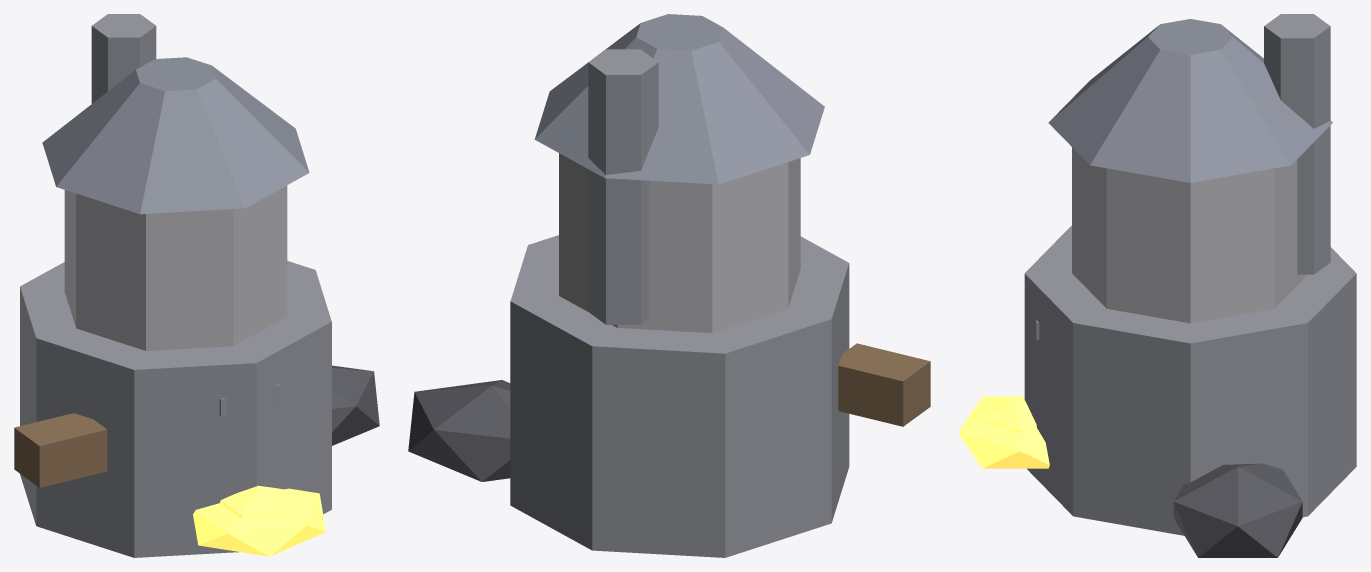
File: smelter.glb
The picture shows the model from 3 angles, left to right: view 1: azimuth 30°, elevation 25°; view 2: azimuth 150°, elevation 25°; view 3: azimuth 270°, elevation 25°; orthographic projection. The views are drawn at different scales.
Visible parts, largest first — view 1: SmelterBase; view 2: SmelterBase; view 3: SmelterBase.
Boxes of the visible parts, x1=… form: SmelterBase: x1=14, y1=14, x2=379, y2=557; SmelterBase: x1=408, y1=14, x2=930, y2=557; SmelterBase: x1=959, y1=14, x2=1356, y2=557.
Size of the model in its own units: 2.03 by 2.1 by 1.68.
